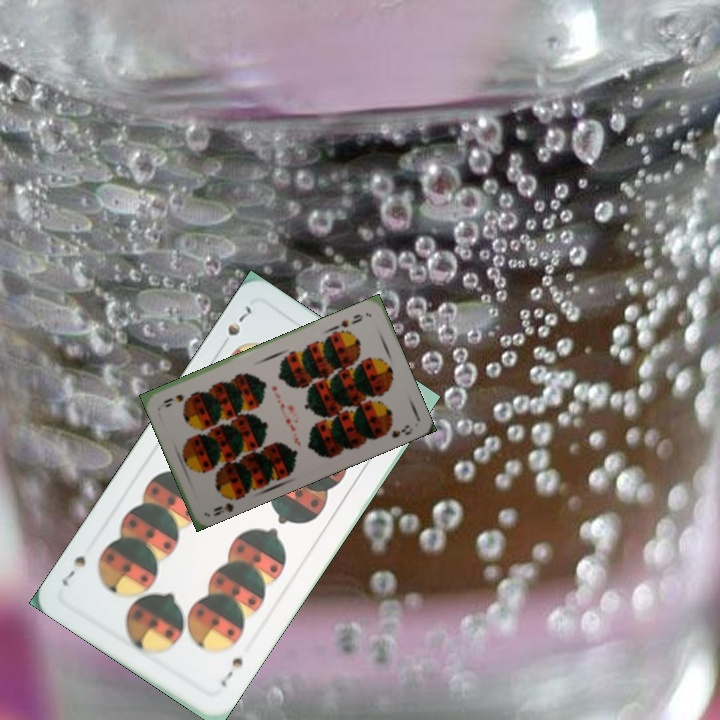S7: (223, 301, 255, 339), (216, 653, 246, 690)
S9: (209, 489, 243, 519), (336, 310, 366, 330)
